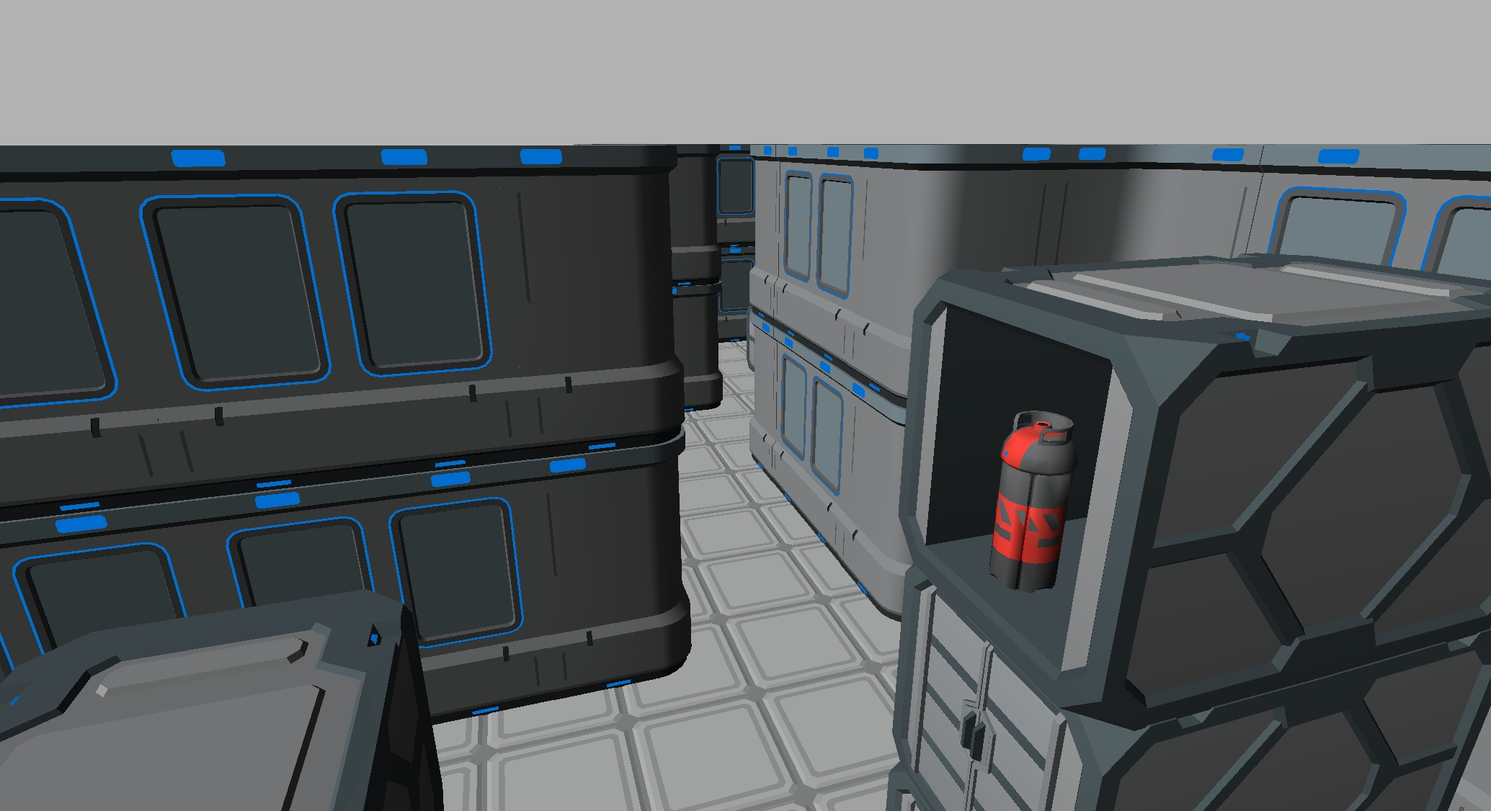red_barrel: (991, 412, 1076, 591)
